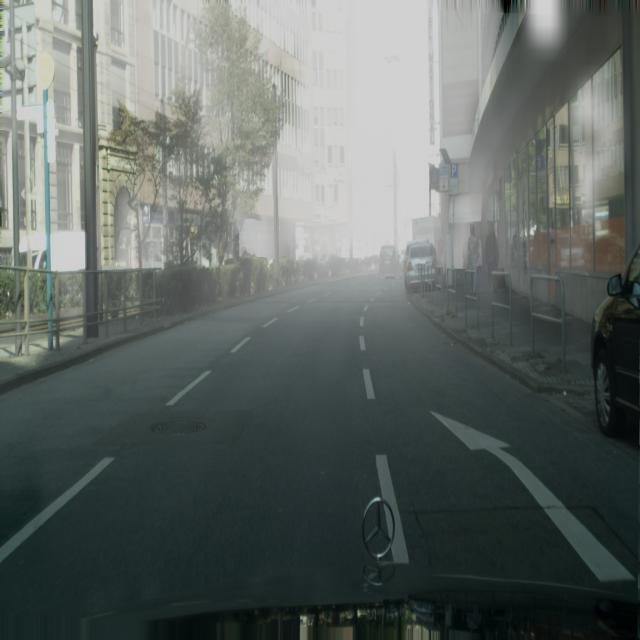person: (466, 222, 482, 296), (484, 222, 498, 292)
truck: (591, 239, 640, 438), (404, 239, 438, 294), (379, 245, 400, 279)
